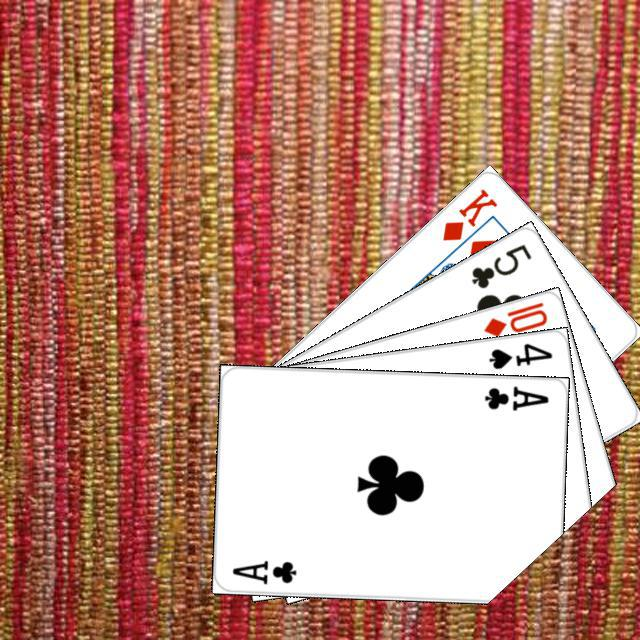10d: (478, 297, 549, 339)
4s: (483, 338, 554, 371)
5c: (466, 239, 533, 291)
Ac: (479, 381, 551, 412), (227, 555, 298, 586)
Kd: (437, 183, 499, 243)
